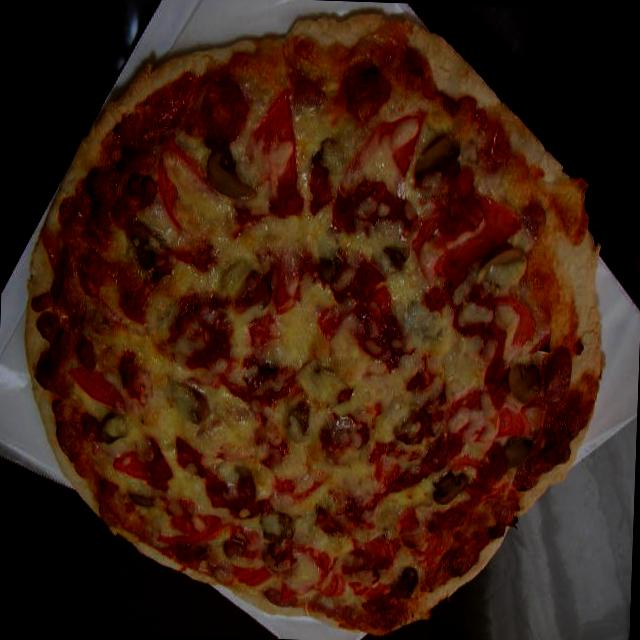Pizza: (16, 20, 609, 640)
